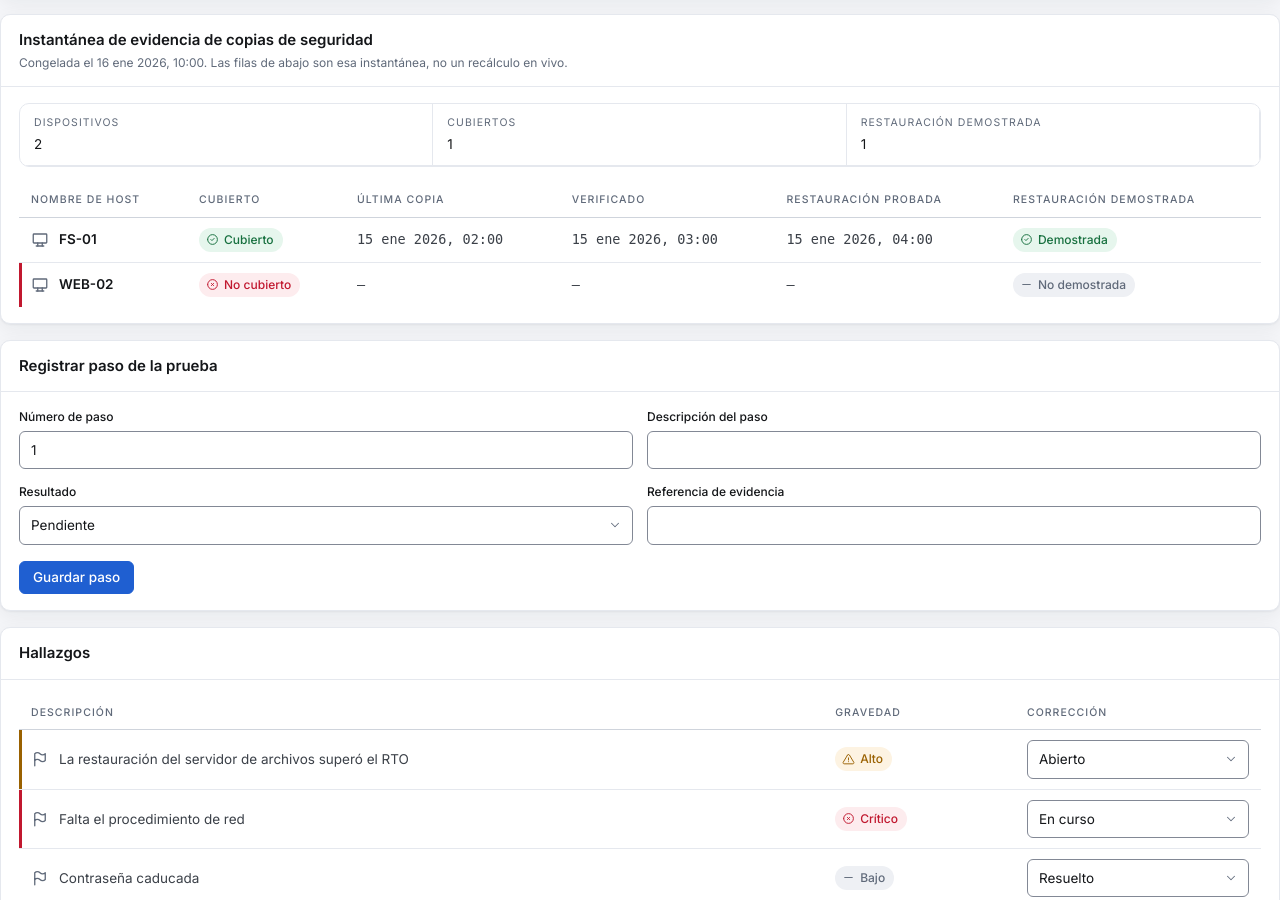
Test: the test recorder, in Spanish › names a step number that is not a whole number
(page scrolled)
expect the heading "Registrar paso de la prueba" is shown: met, box top-left (19, 354), bottom-right (218, 377)
Replace the text in the number field labelled "Número de paso" with "1.5" at (326, 450), box top-left (19, 431), bottom-right (633, 469)
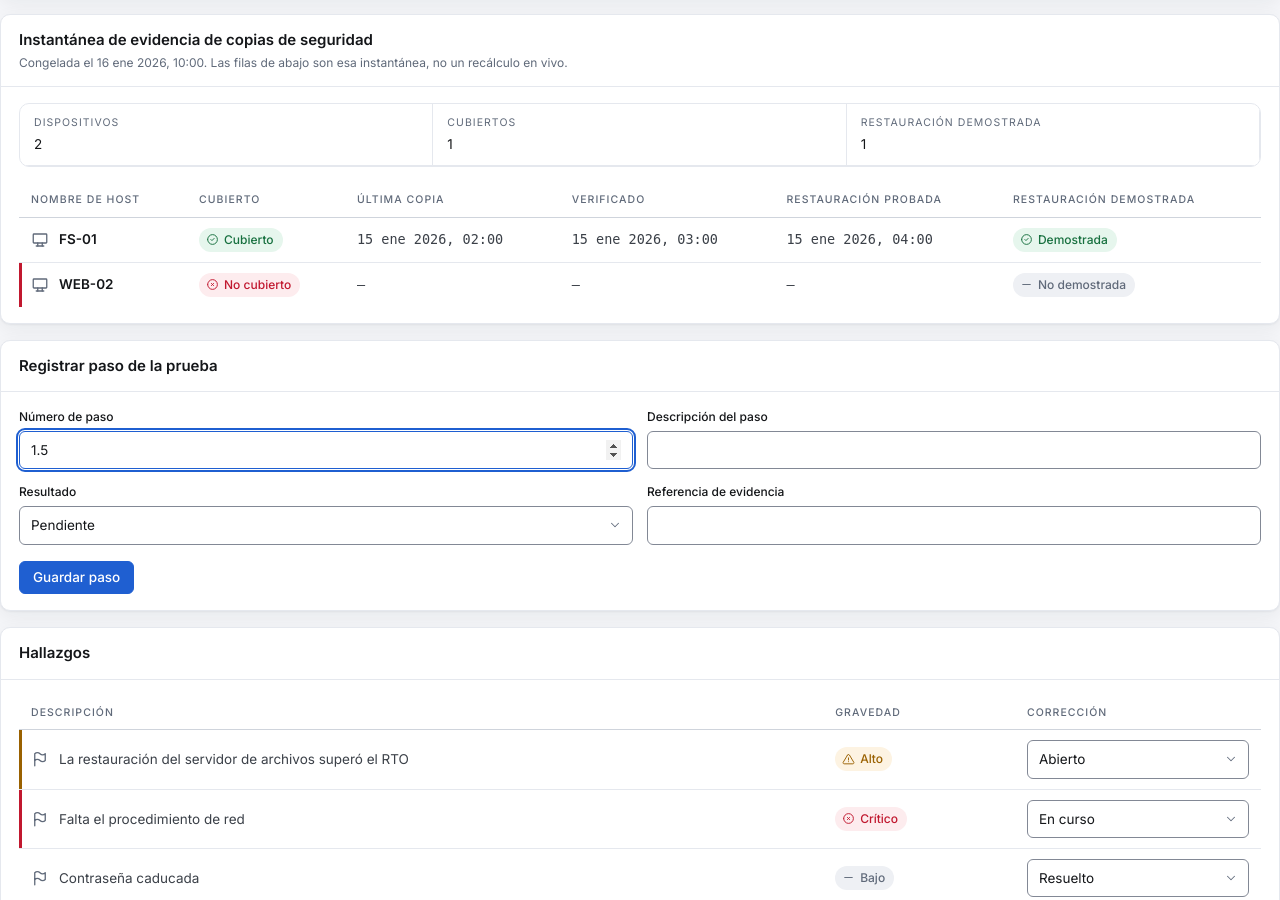
Type "Probar el servicio" into the field labelled "Descripción del paso" at (954, 450), box top-left (647, 431), bottom-right (1261, 469)
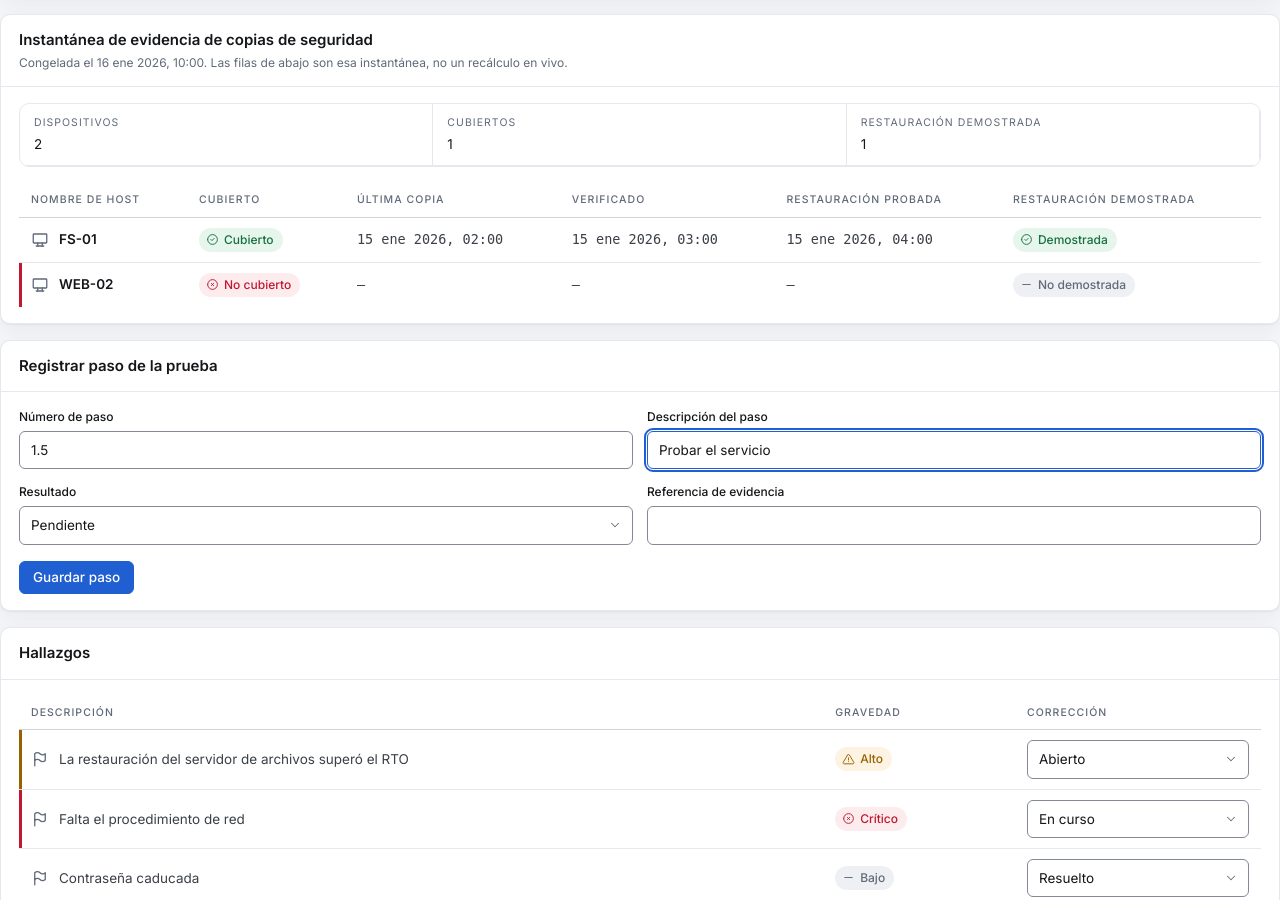
Click the button "Guardar paso" at (77, 577), box top-left (19, 560), bottom-right (134, 594)
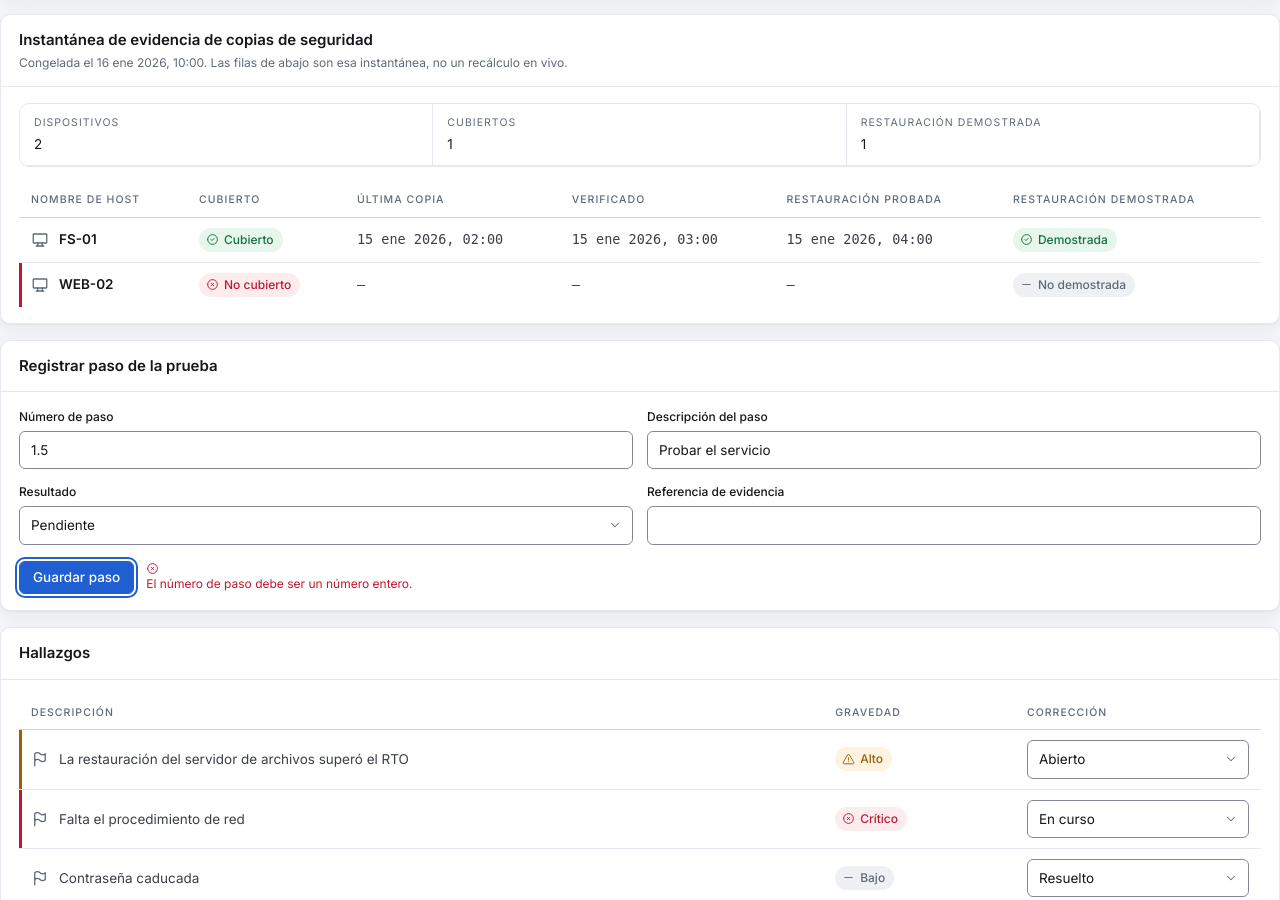
expect the message shows "El número de paso debe ser un número entero": met, box top-left (146, 576), bottom-right (409, 591)
